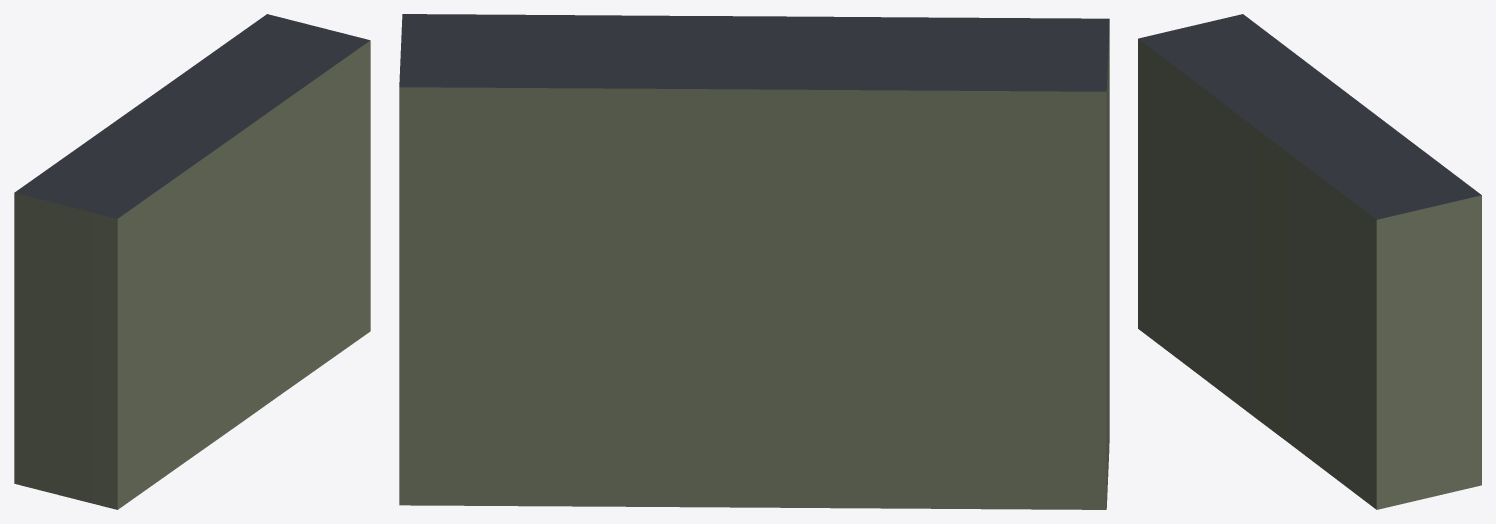
The model's file is nyc-1034354-0.glb.
3 renders of one model, left to right at view 1: azimuth 30°, elevation 25°; view 2: azimuth 150°, elevation 25°; view 3: azimuth 270°, elevation 25°, orthographic. The views are drawn at different scales.
Visible parts, largest first — view 1: nyc-1034354-0; view 2: nyc-1034354-0; view 3: nyc-1034354-0.
Part boxes in pixels (box(x1,y1,x2,y2)): nyc-1034354-0: box(14, 14, 370, 509); nyc-1034354-0: box(399, 14, 1109, 509); nyc-1034354-0: box(1138, 14, 1481, 509).
Bounding box in the file's own units: 23.75 × 15.61 × 16.77.
